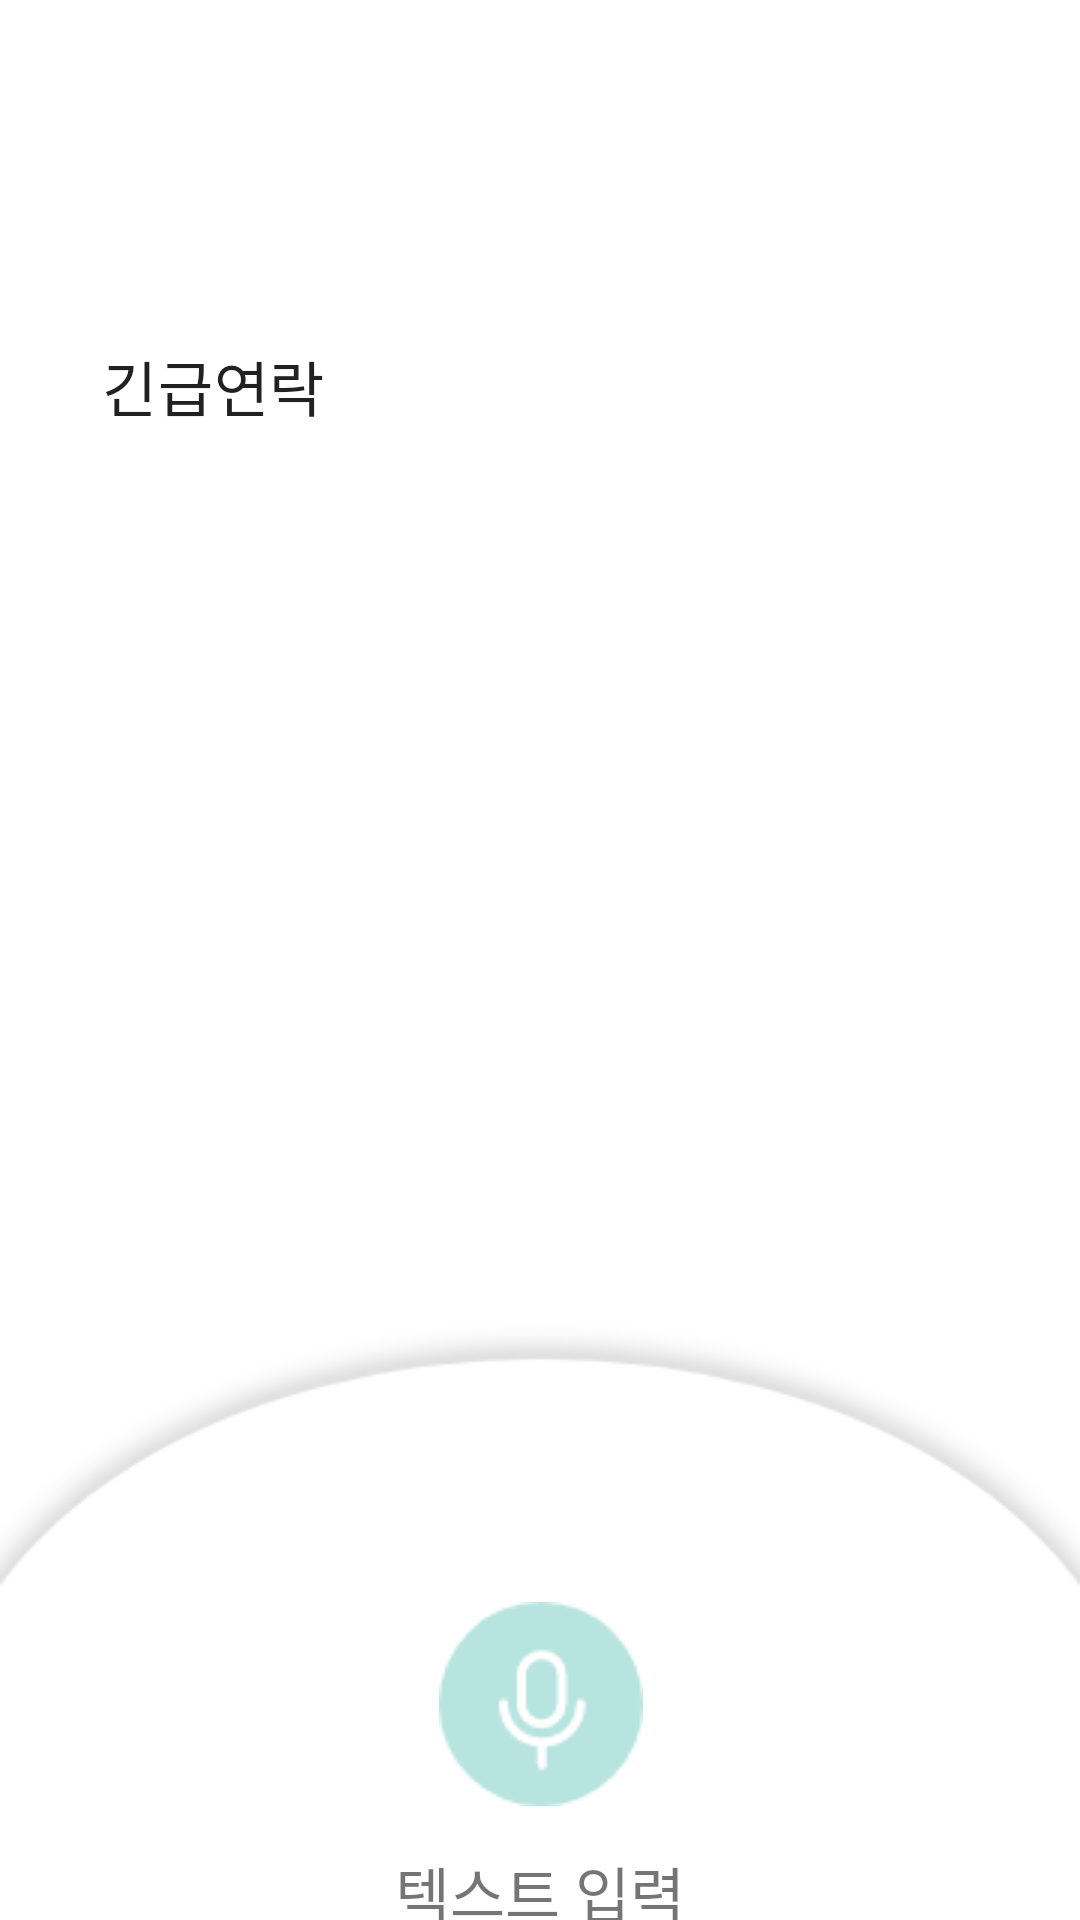

Icon bounding boxes for this 1080px x 1920px phone screenshot, format (x1, y1, x2, y2):
mic: (439, 1602, 643, 1806)
